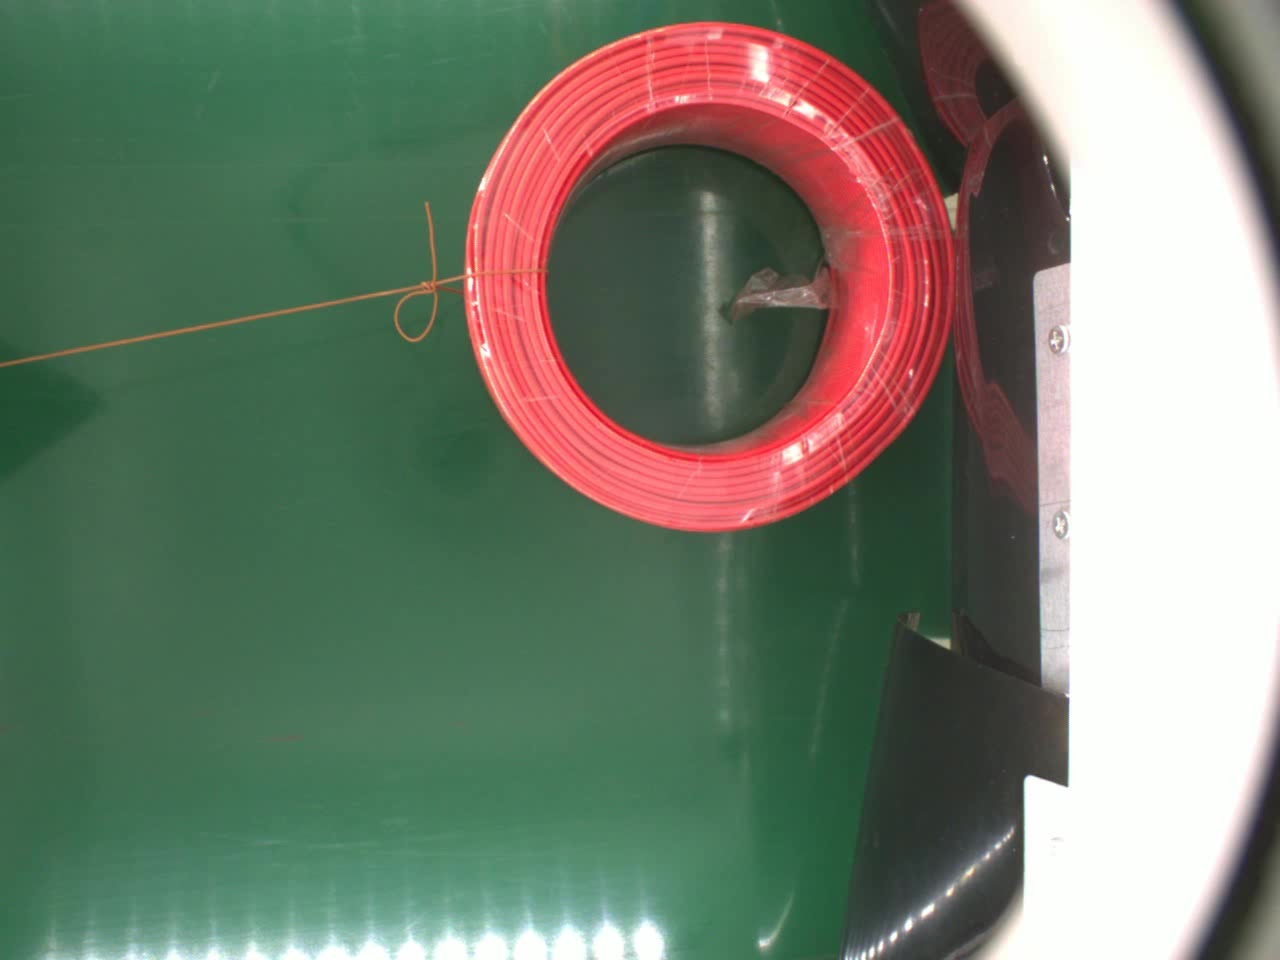red: (456, 12, 958, 537)
